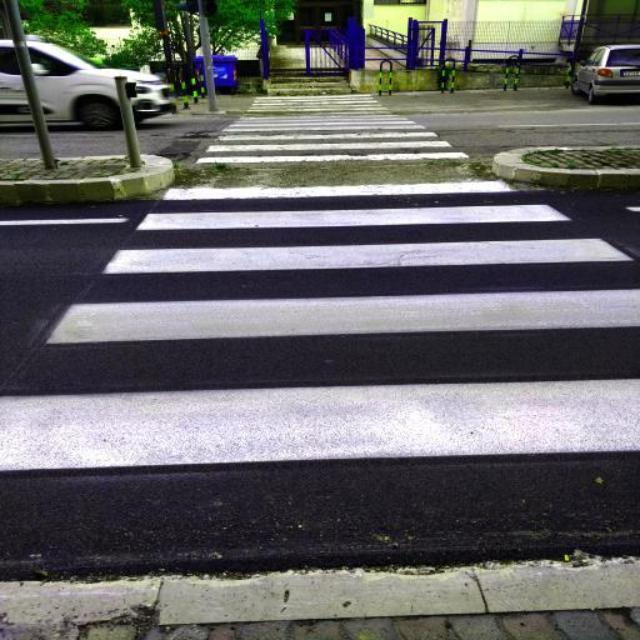sidewalk: (6, 92, 640, 464)
